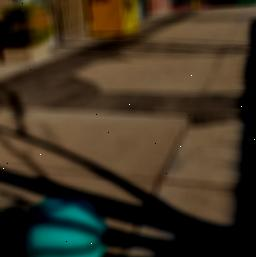algae: (21, 192, 108, 257)
